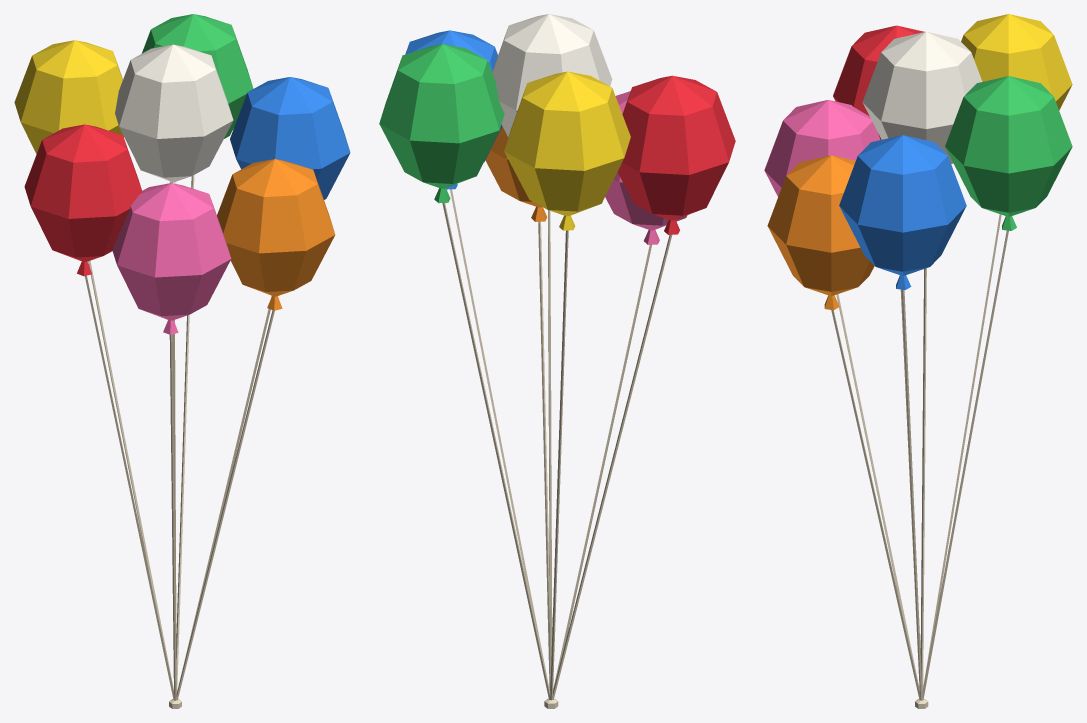
The model's file is balloons.glb.
3 views of the same model, side by side, from view 1: azimuth 30°, elevation 25°; view 2: azimuth 150°, elevation 25°; view 3: azimuth 270°, elevation 25° (orthographic). The views are drawn at different scales.
Visible parts, largest first — view 1: body; view 2: body; view 3: body.
Boxes of the visible parts, <box> form: body: <box>14,14,350,708</box>; body: <box>379,14,735,708</box>; body: <box>764,14,1072,708</box>.
Bounding box in the file's own units: 1.2 × 2.4 × 0.99.
